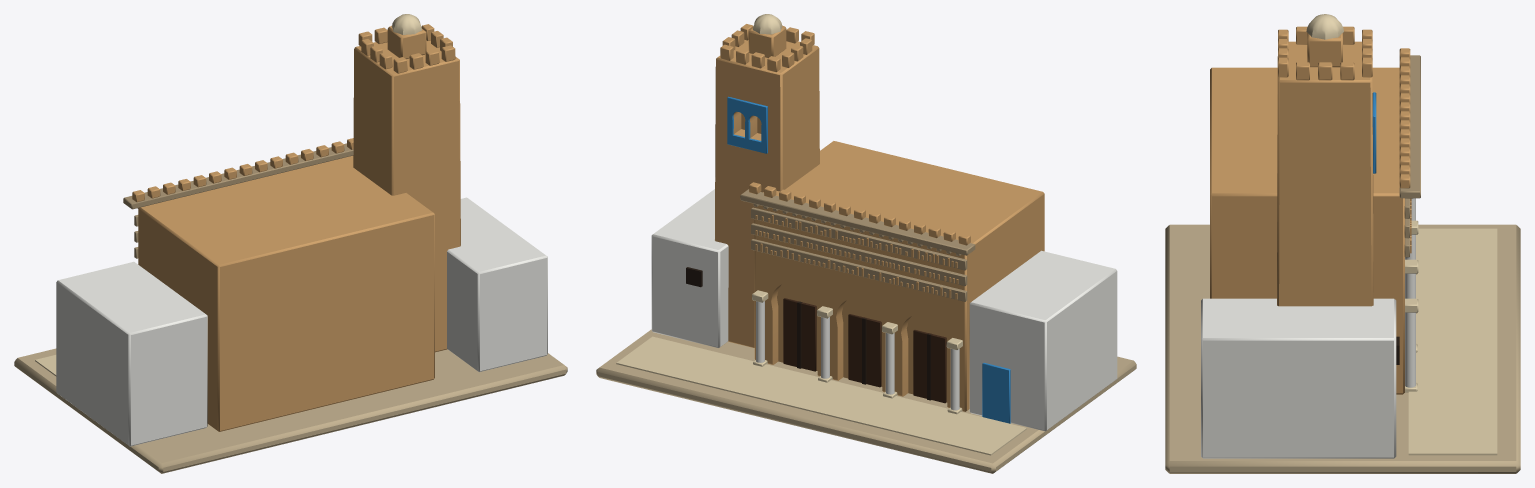
Rendered from Monument_ThreeDoors.fbx.
3 renders of one model, left to right at view 1: azimuth 30°, elevation 25°; view 2: azimuth 150°, elevation 25°; view 3: azimuth 270°, elevation 25°, orthographic. The views are drawn at different scales.
Visible parts, largest first — view 1: Monument_ThreeDoors; view 2: Monument_ThreeDoors; view 3: Monument_ThreeDoors.
Part boxes in pixels (bbox=[...]): Monument_ThreeDoors: bbox=[14, 14, 567, 473]; Monument_ThreeDoors: bbox=[596, 14, 1136, 473]; Monument_ThreeDoors: bbox=[1165, 14, 1520, 473].
Bounding box in the file's own units: 3.24 × 2.51 × 2.
